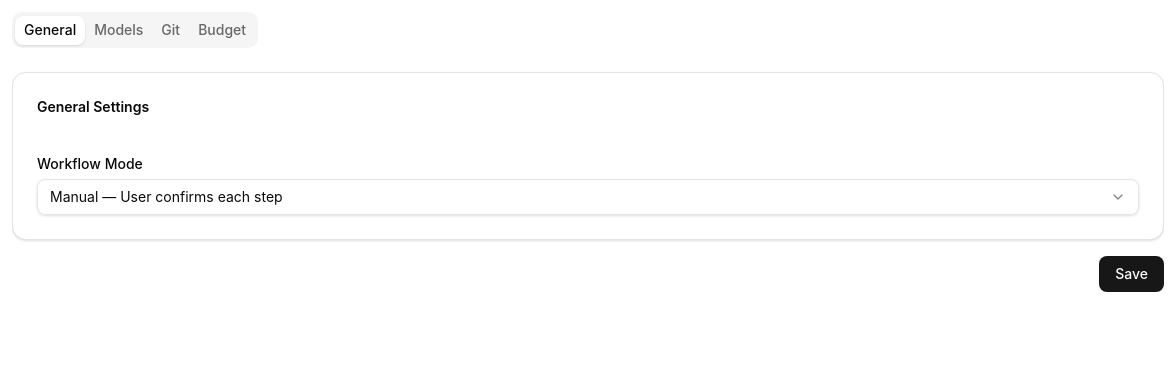
it: ConfigPanel › switches to Git tab and shows isolation mode from preferences
Expected: the element showing "General Models Git Budget" is shown, [12,12,258,48]
Click the tab "Git": (171,30) [152,16,189,44]
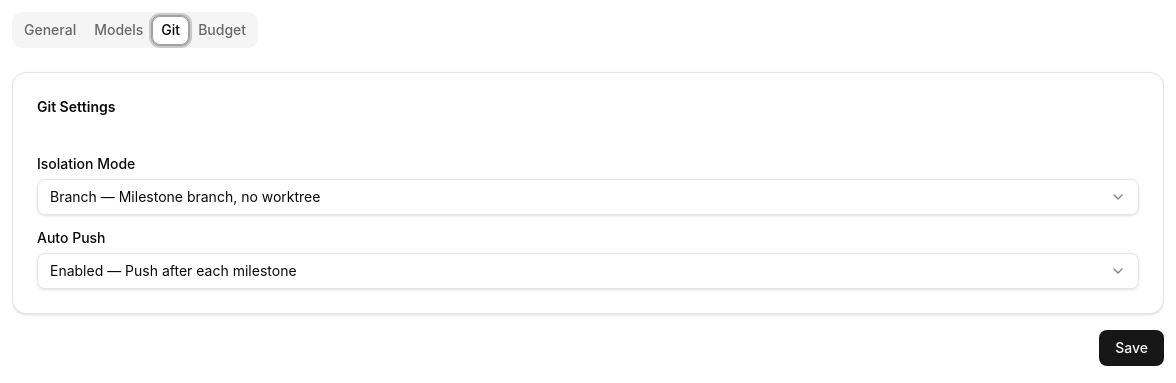
Now the text "Isolation Mode" is shown, box [37,155,135,172]
Now the text "Branch — Milestone branch, no worktree" is shown, box [50,187,320,207]
